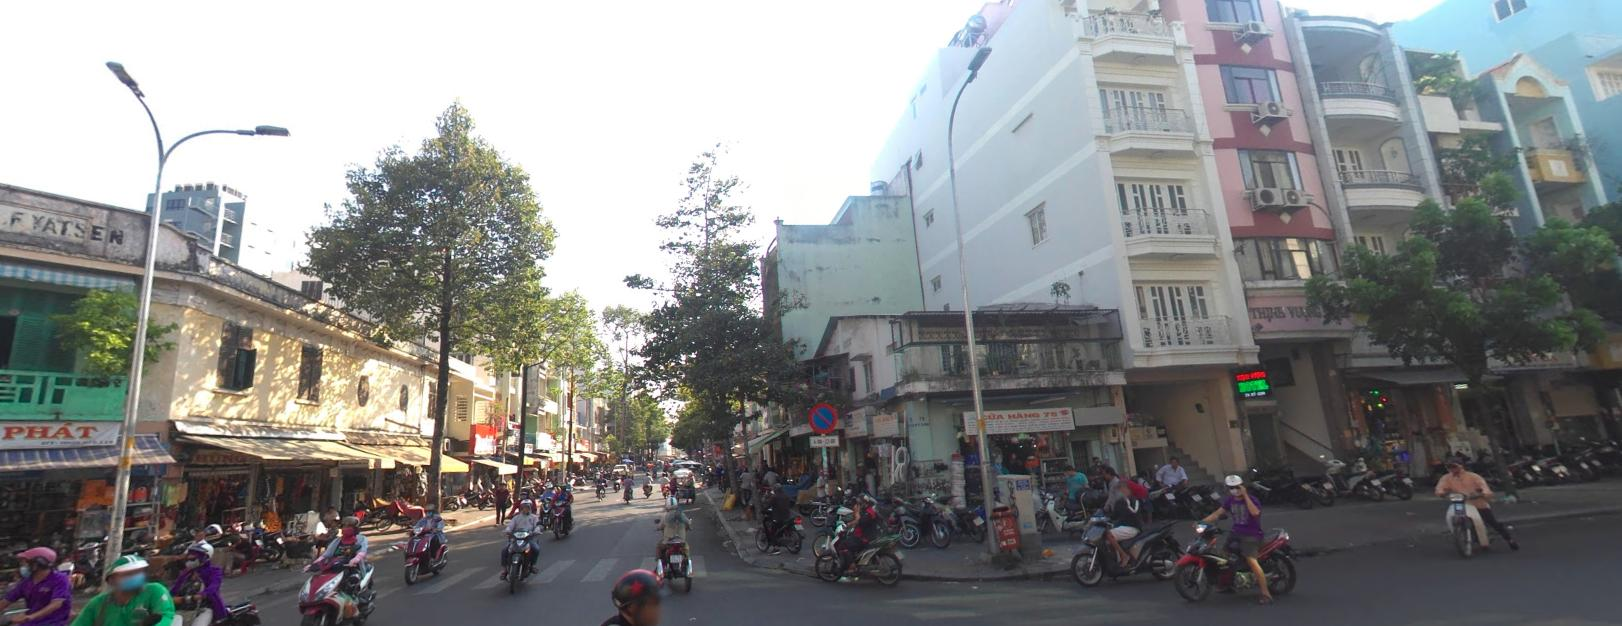Cam dung va do: (808, 403, 836, 433)
